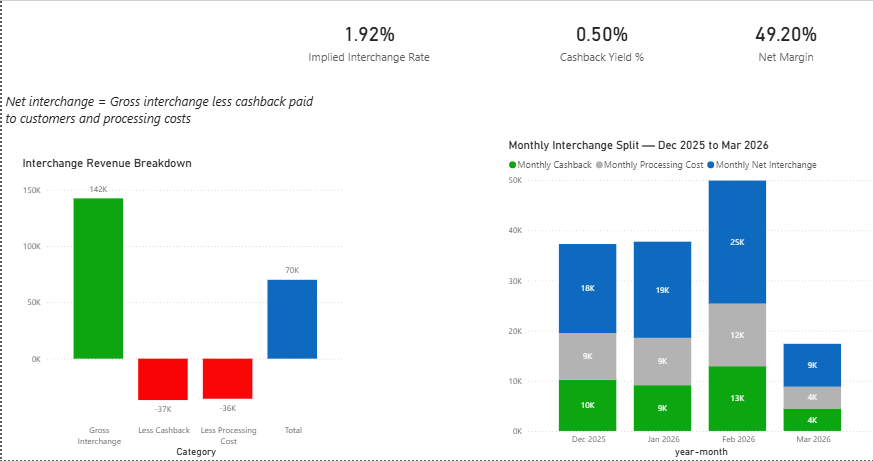

The dashboard page shown, as its layout file describes it:
{"tool":"powerbi","page":{"name":"Page 2","canvas":[1280,720],"ordinal":1},"visuals":[{"type":"card","fields":{"Values":["Data.Implied Interchange Rate"]},"box":[393.1,0,287.2,210],"z":0},{"type":"card","fields":{"Values":["Data.Cashback Yield %"]},"box":[747.5,0,260.4,210],"z":1000},{"type":"card","fields":{"Values":["Data.Net Margin"]},"box":[1016.3,0,263.7,210],"z":2000},{"type":"columnChart","title":"Monthly Interchange Split — Dec 2025 to Mar 2026","fields":{"Category":["Data.year-month"],"Y":["Data.Monthly Cashback","Data.Monthly Processing Cost","Data.Monthly Net Interchange"]},"box":[735.7,248.6,544.3,472],"z":3000},{"type":"columnChart","title":"Interchange Revenue Breakdown","fields":{"Y":["Sum(Table.Value)"],"Category":["Table.Category"]},"box":[25.2,275.5,482.1,445.1],"z":4000},{"type":"textbox","box":[0,176.4,468.7,67.2],"z":5000}]}

Visuals, with their boxes on the page's 1280x720 design canvas (x1, y1, x2, y2). These are canvas units, not pixel positions in the 873x461 screenshot, which may show the page scaled, cropped or inside an application window:
card - Data.Implied Interchange Rate: Rect(393, 0, 680, 210)
card - Data.Cashback Yield %: Rect(748, 0, 1008, 210)
card - Data.Net Margin: Rect(1016, 0, 1280, 210)
"Monthly Interchange Split — Dec 2025 to Mar 2026" columnChart: Rect(736, 249, 1280, 721)
"Interchange Revenue Breakdown" columnChart: Rect(25, 276, 507, 721)
textbox: Rect(0, 176, 469, 244)
